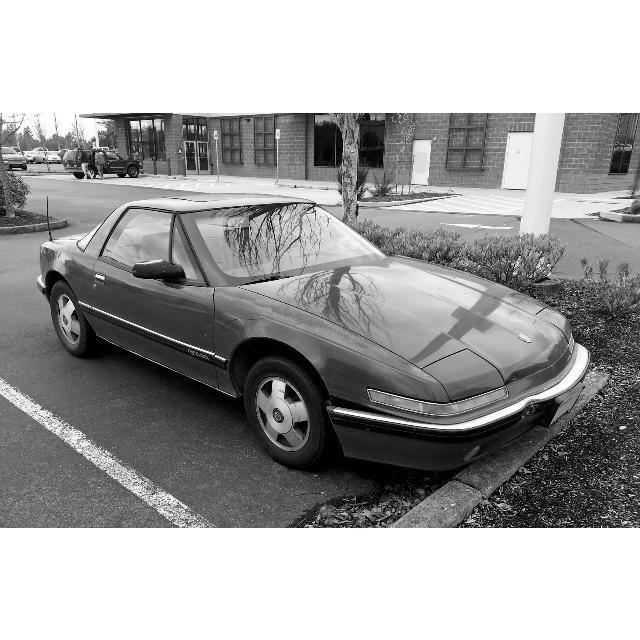fender-dent: (218, 300, 359, 402)
